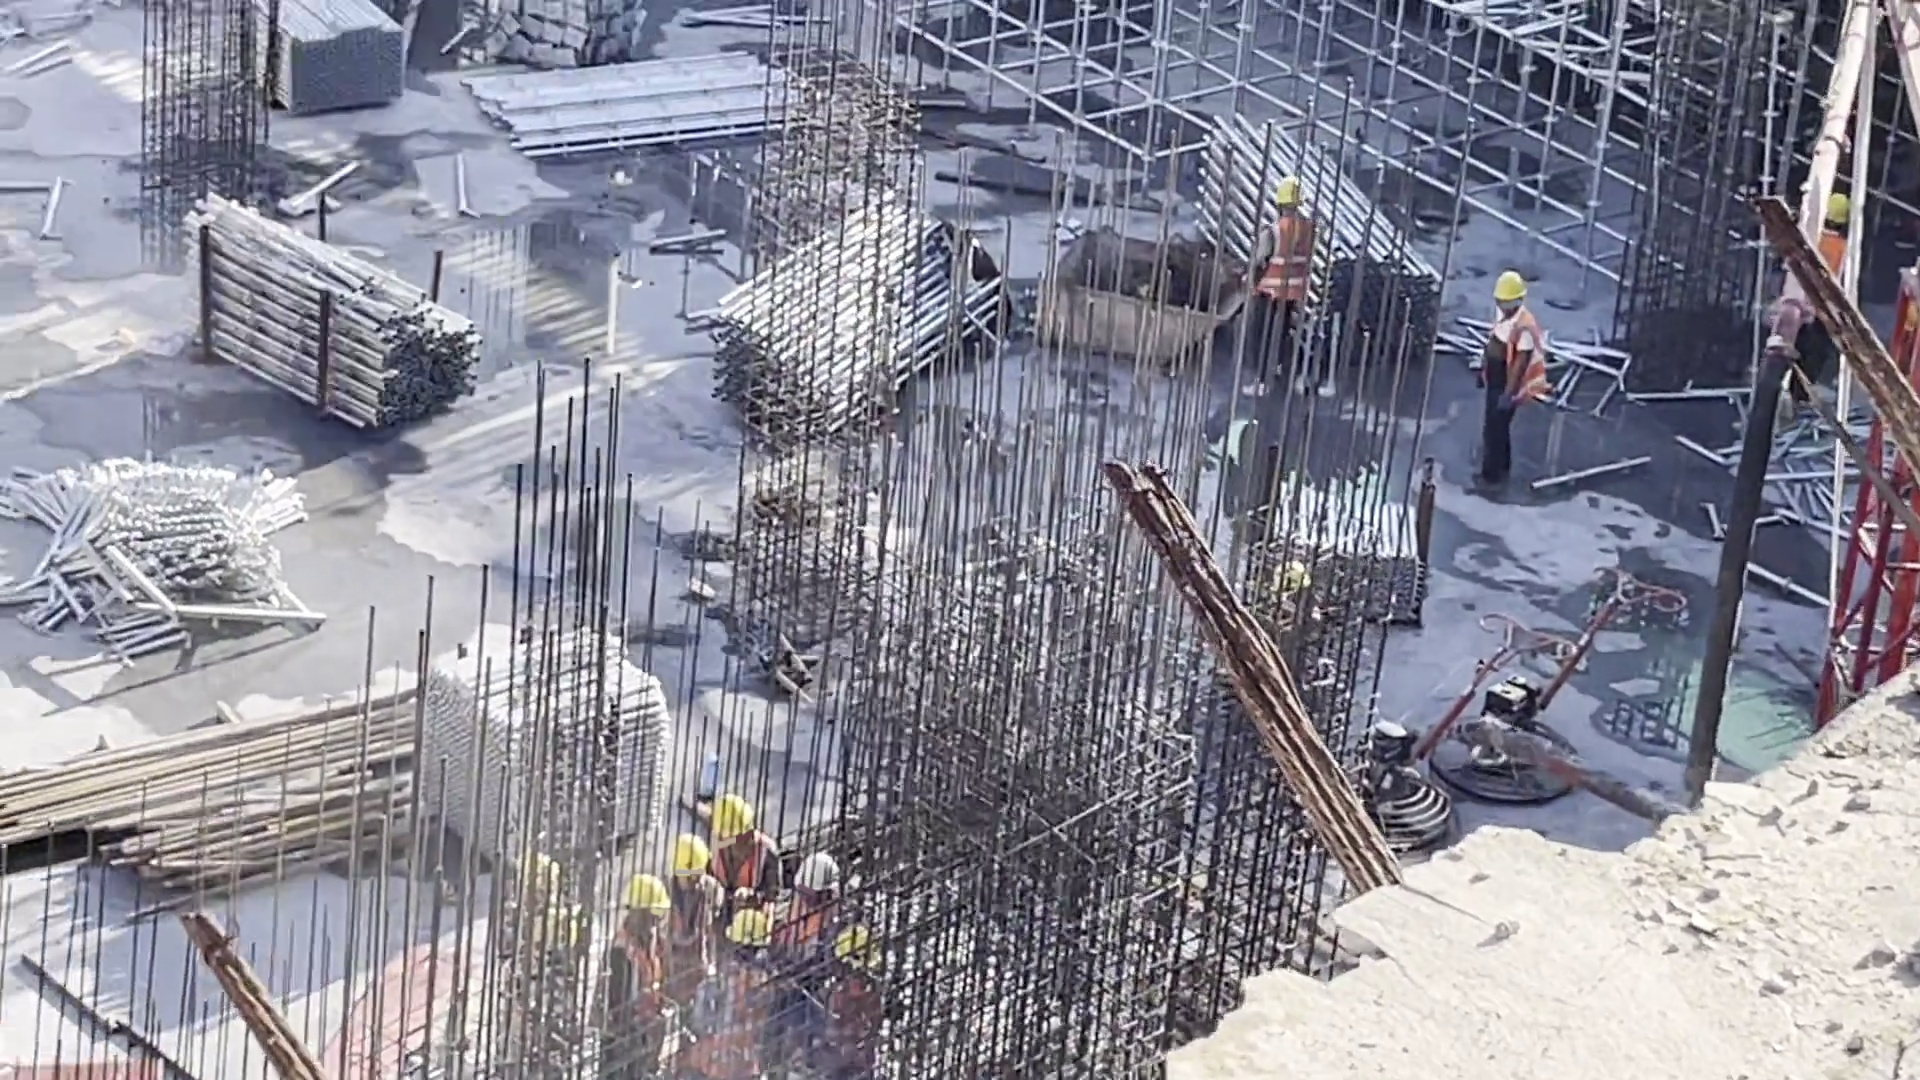helmet: (832, 934, 900, 994), (707, 791, 761, 845), (670, 841, 716, 891), (619, 880, 670, 921), (731, 915, 780, 953), (796, 861, 834, 902), (1273, 179, 1313, 215), (1501, 273, 1530, 310), (1823, 195, 1851, 226)
hopper: (1033, 227, 1216, 350)
person: (692, 909, 794, 1080), (1244, 171, 1319, 401), (797, 927, 901, 1080), (1791, 182, 1856, 428), (1474, 265, 1543, 494), (590, 868, 669, 1062), (697, 793, 789, 911), (659, 825, 717, 1003), (773, 856, 834, 989)
scaffold: (740, 188, 993, 404), (201, 264, 481, 456), (1220, 96, 1404, 340), (443, 648, 644, 859), (46, 465, 285, 619), (468, 57, 796, 143), (1259, 471, 1427, 601), (259, 1, 404, 101)
vest: (700, 972, 774, 1080), (820, 977, 881, 1070), (600, 946, 650, 1031), (1491, 322, 1543, 405), (1254, 219, 1310, 296), (720, 841, 776, 888), (1813, 234, 1850, 279), (787, 904, 818, 956), (675, 896, 698, 955)
